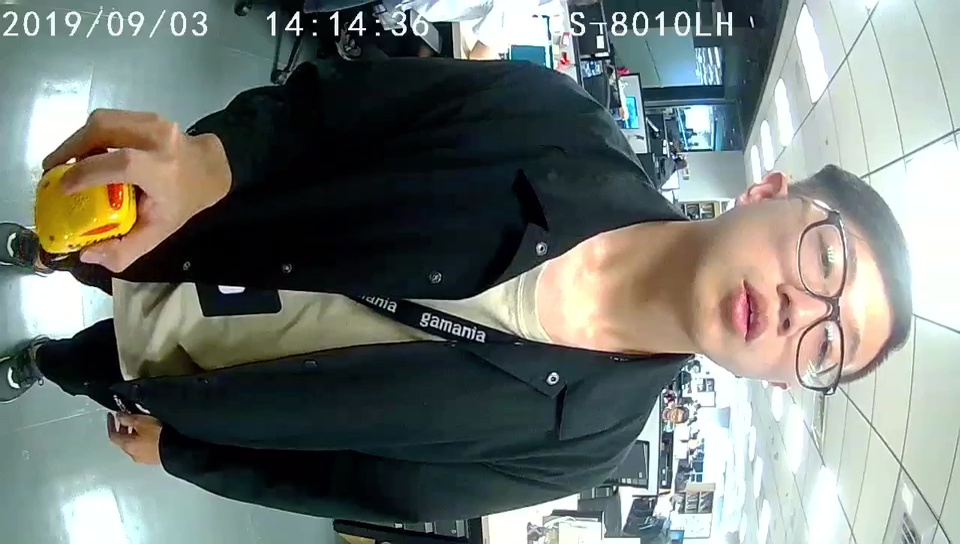car: (36, 162, 137, 255)
